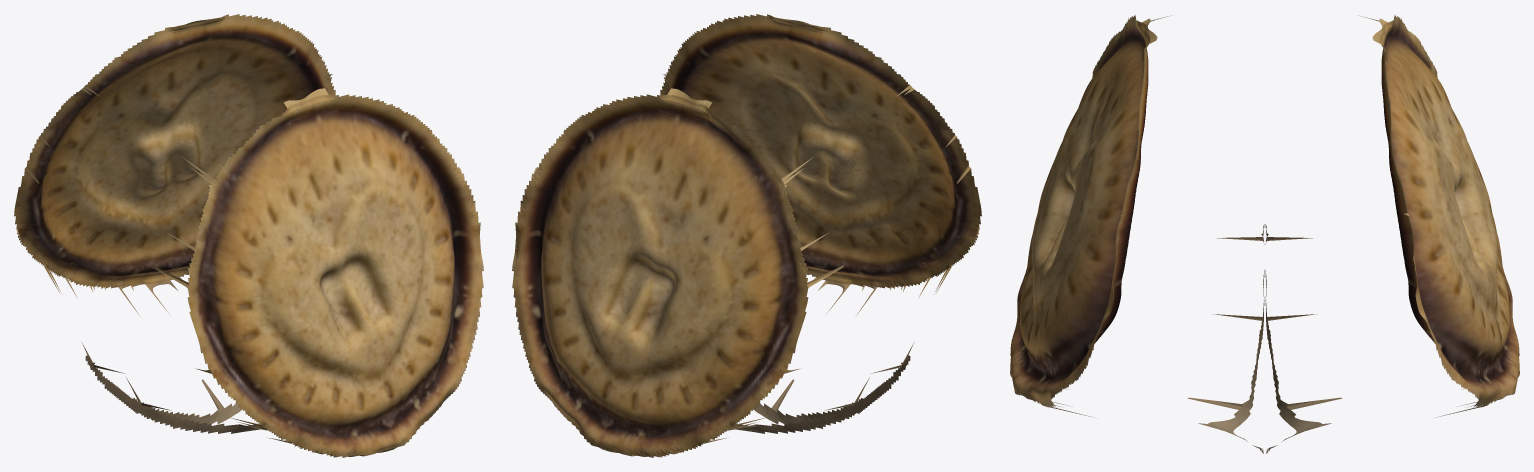
3 views of the same model, side by side, from view 1: azimuth 30°, elevation 25°; view 2: azimuth 150°, elevation 25°; view 3: azimuth 270°, elevation 25° (orthographic). The views are drawn at different scales.
Visible parts, largest first — view 1: geometry_0; view 2: geometry_0; view 3: geometry_0.
Boxes of the visible parts, box(x1,y1,x2,y2) form: geometry_0: box(14, 14, 483, 457); geometry_0: box(512, 14, 981, 457); geometry_0: box(1010, 15, 1519, 453).
Bounding box in the file's own units: 0.9515 × 1.02 × 1.17.
Materials: 1 (1 with a texture image).
